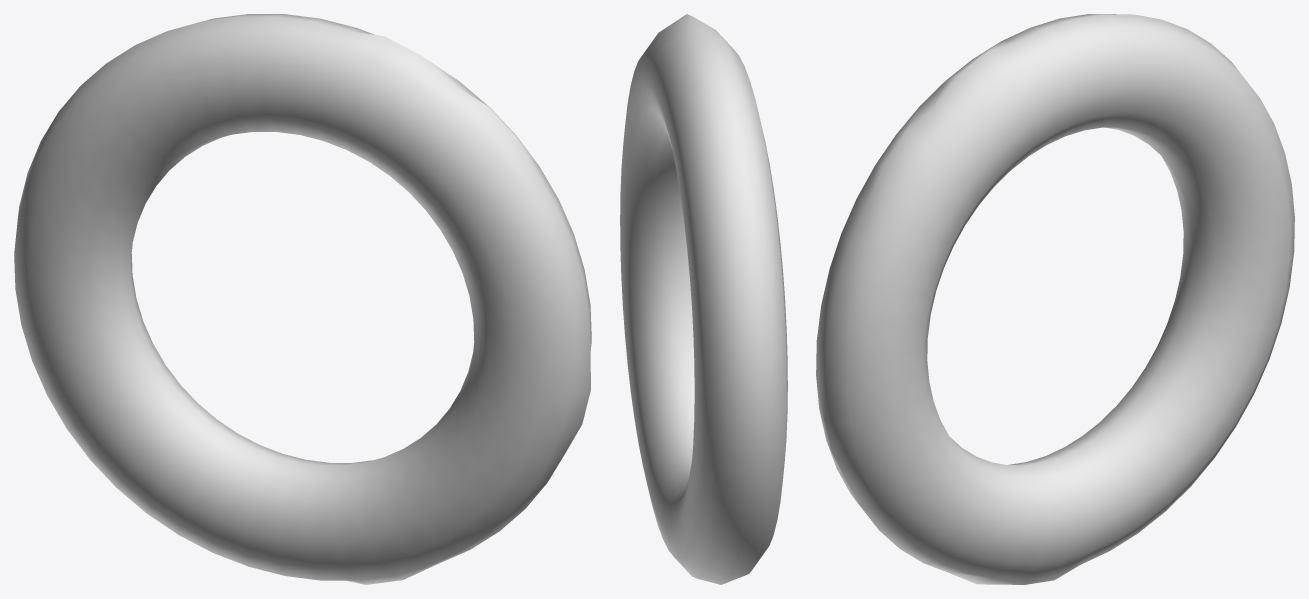
The picture shows the model from 3 angles, left to right: view 1: azimuth 30°, elevation 25°; view 2: azimuth 150°, elevation 25°; view 3: azimuth 270°, elevation 25°; orthographic projection. The views are drawn at different scales.
Visible parts, largest first — view 1: Torus.001; view 2: Torus.001; view 3: Torus.001.
Part boxes in pixels (x1,y1,x2,y2): Torus.001: (14,14,591,584); Torus.001: (620,14,787,584); Torus.001: (816,14,1294,584).
Size of the model in its own units: 1.32 by 1.93 by 1.55.
1 material, 1 textured.
